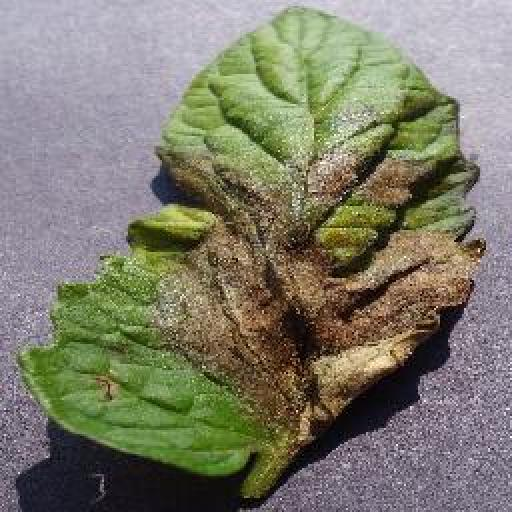disease_tomato: (20, 0, 488, 472)
